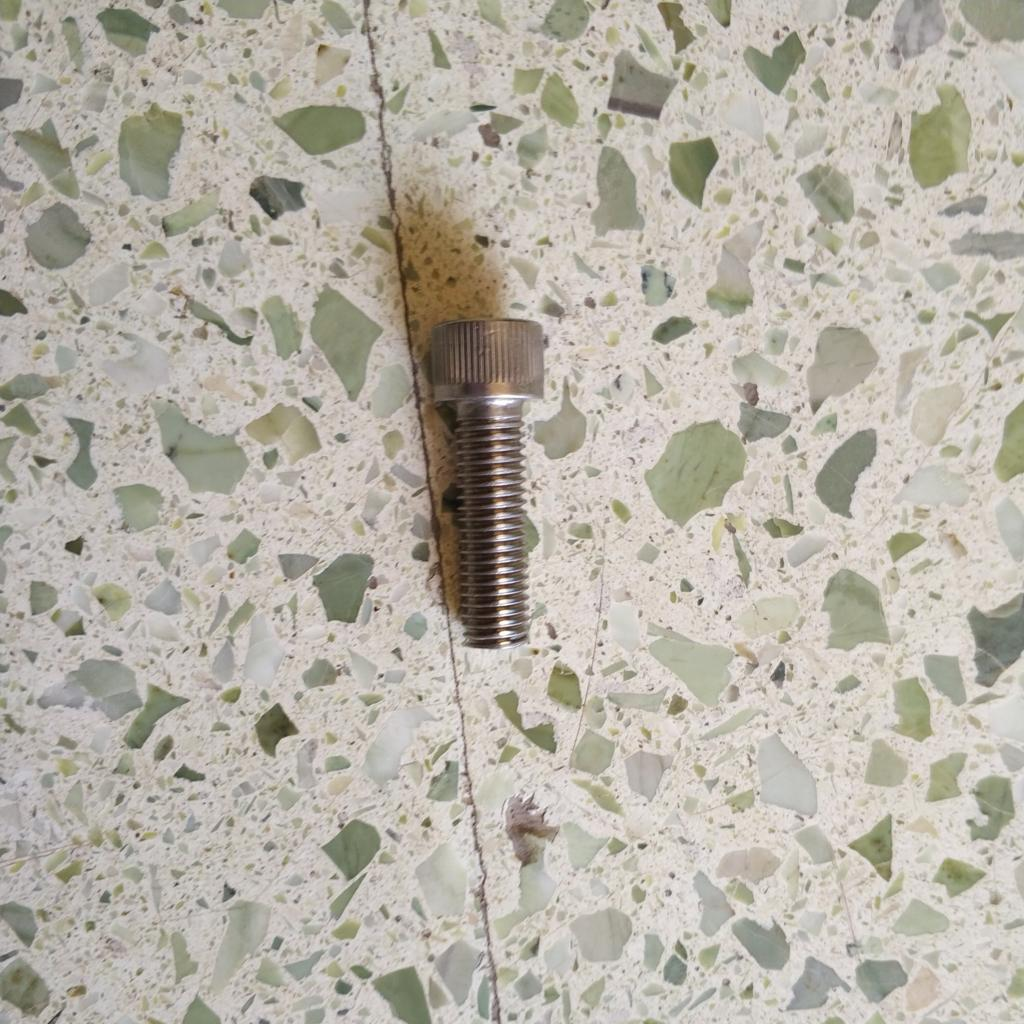screwtype1silver: (421, 310, 555, 655)
